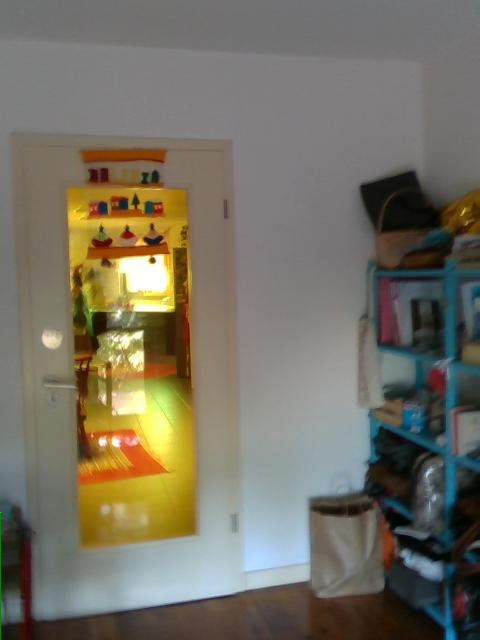door: (22, 145, 234, 619)
